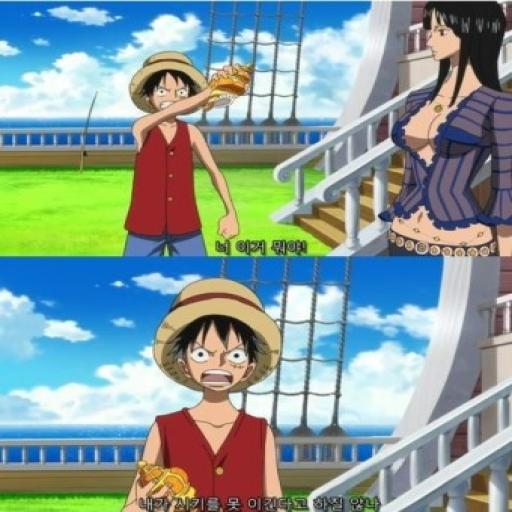Luffy: (145, 270, 293, 402), (123, 44, 218, 126)
NicoRobin: (415, 0, 512, 91)
